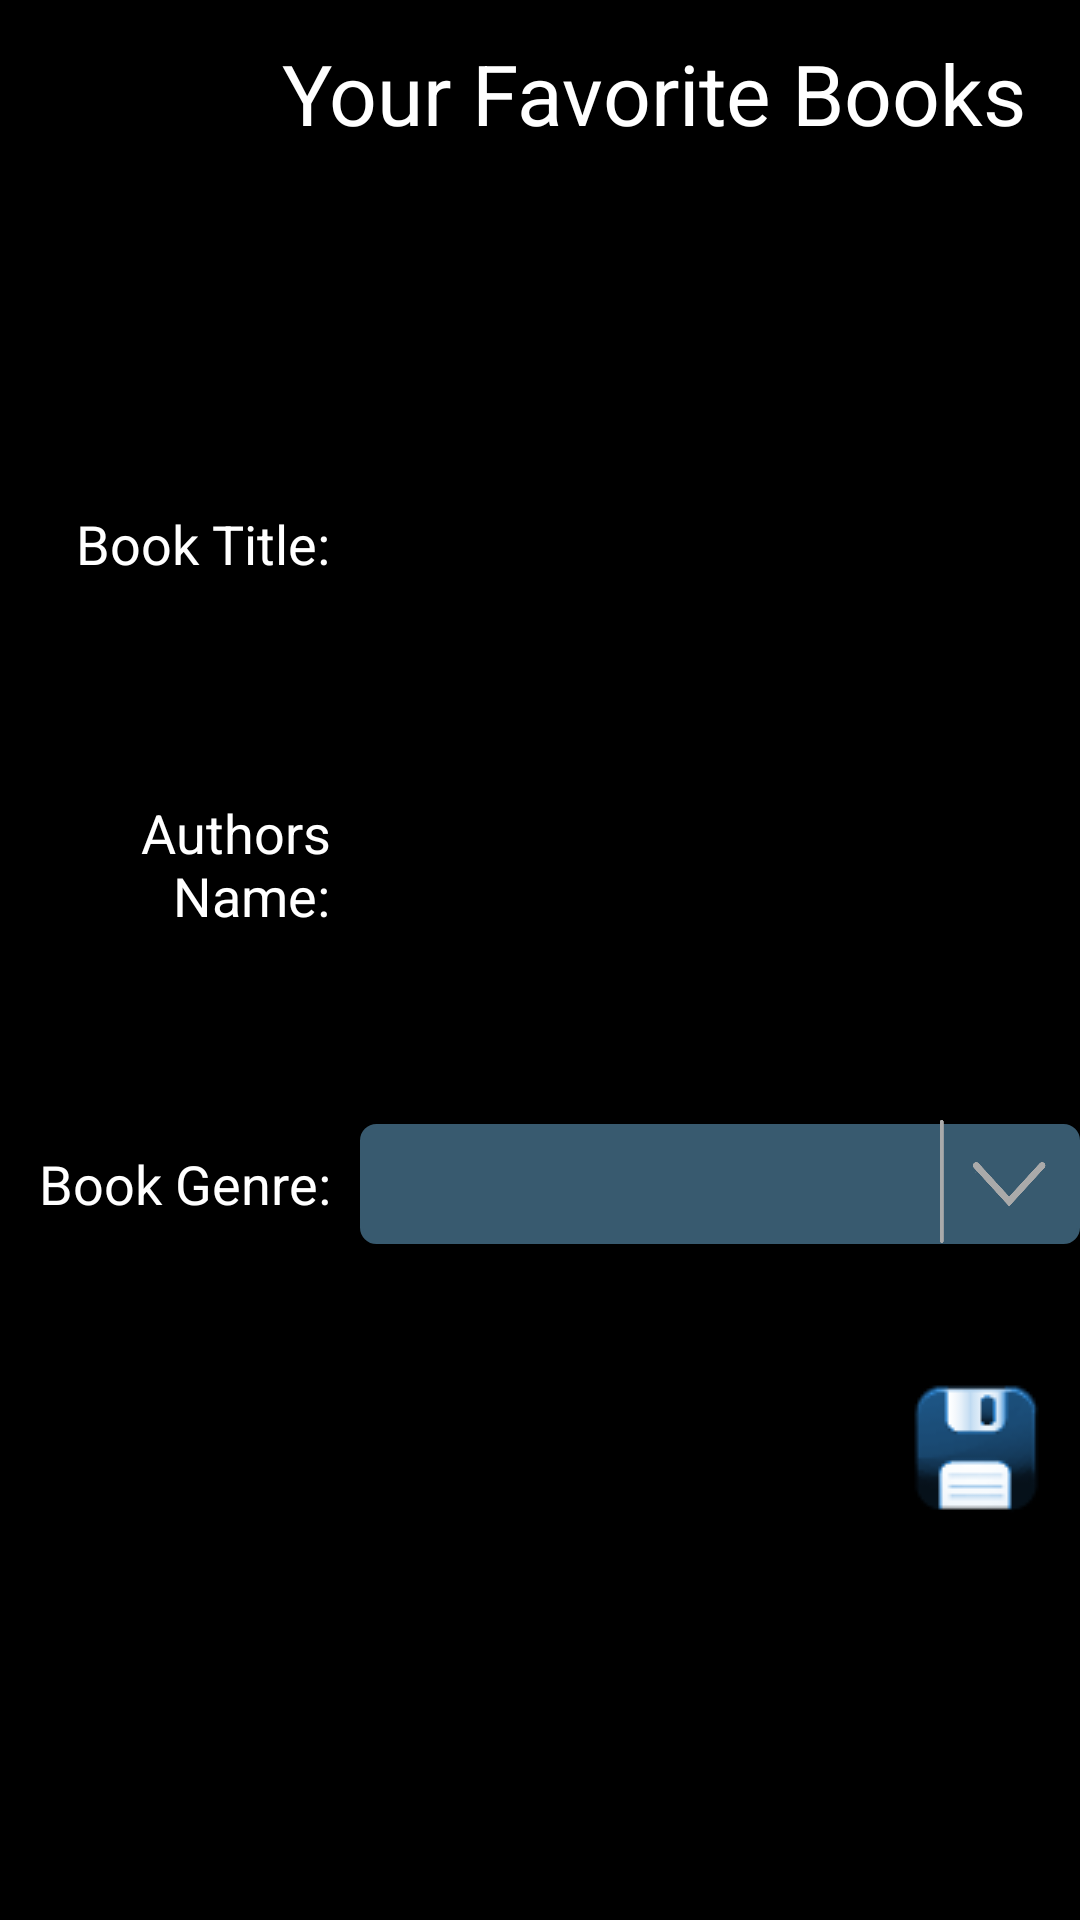

Point at icon controls on the screen. Image size 1080×1920, points as (x,y).
drop arrow: (1001,1182)
save: (976,1447)
